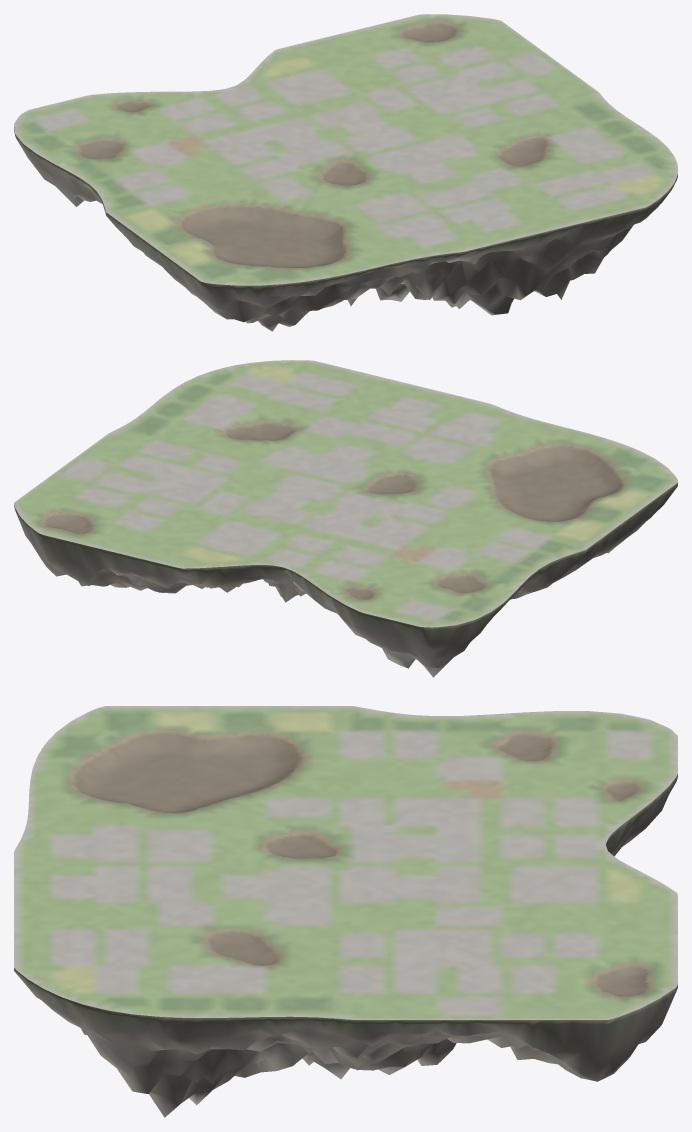
Rendered from SKY-011.rock.glb.
3 views of the same model, one above another, from view 1: azimuth 30°, elevation 25°; view 2: azimuth 150°, elevation 25°; view 3: azimuth 270°, elevation 25° (orthographic). The views are drawn at different scales.
Parts seen in each view (by area): view 1: deck-col, rock; view 2: deck-col, rock; view 3: deck-col, rock.
Boxes of the visible parts, <box> form: deck-col: <box>14,14,677,285</box>; rock: <box>14,127,677,331</box>; deck-col: <box>14,360,677,627</box>; rock: <box>14,483,677,677</box>; deck-col: <box>14,706,677,1019</box>; rock: <box>14,774,677,1117</box>.
Bounding box in the file's own units: 278 × 77.32 × 248.
